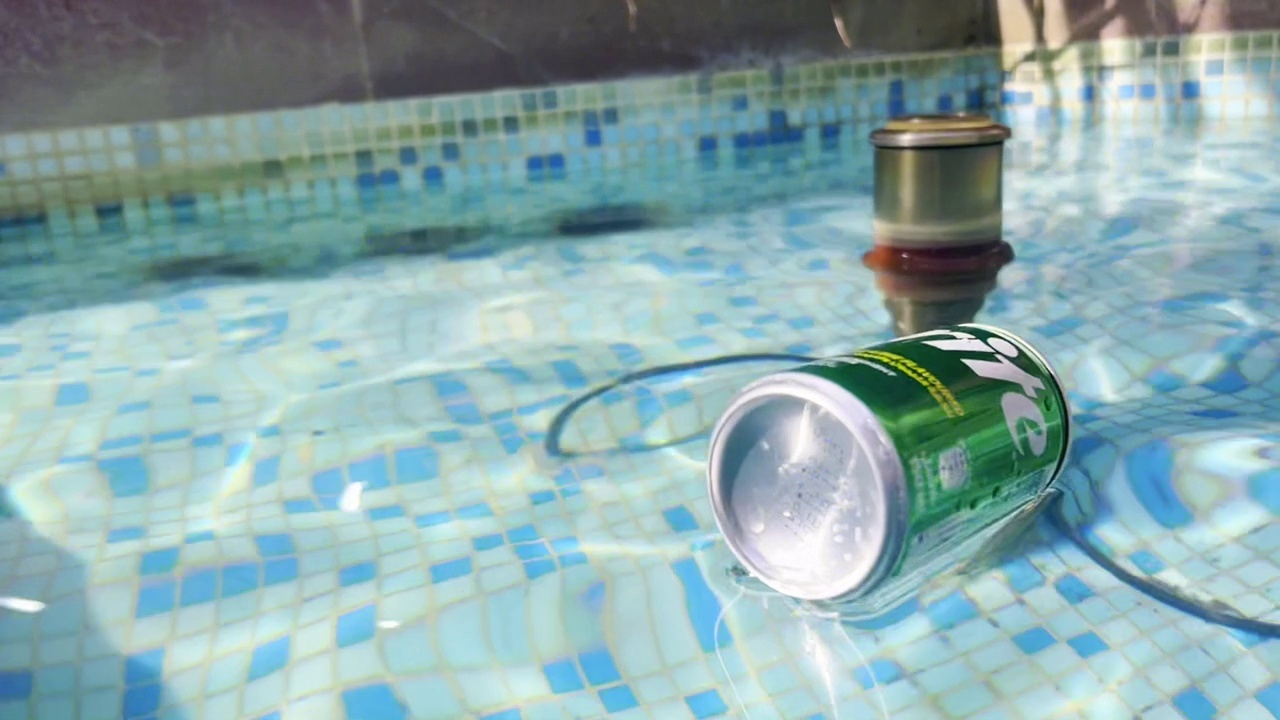debris: (683, 314, 1087, 626)
